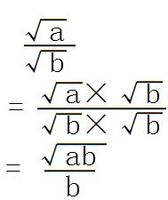division: (35, 104, 165, 114), (39, 167, 97, 175), (22, 41, 77, 48)
sqrt: (42, 142, 107, 166), (22, 17, 69, 42), (120, 111, 163, 137), (27, 49, 69, 73), (123, 79, 162, 104), (42, 81, 82, 104), (41, 112, 82, 134)
